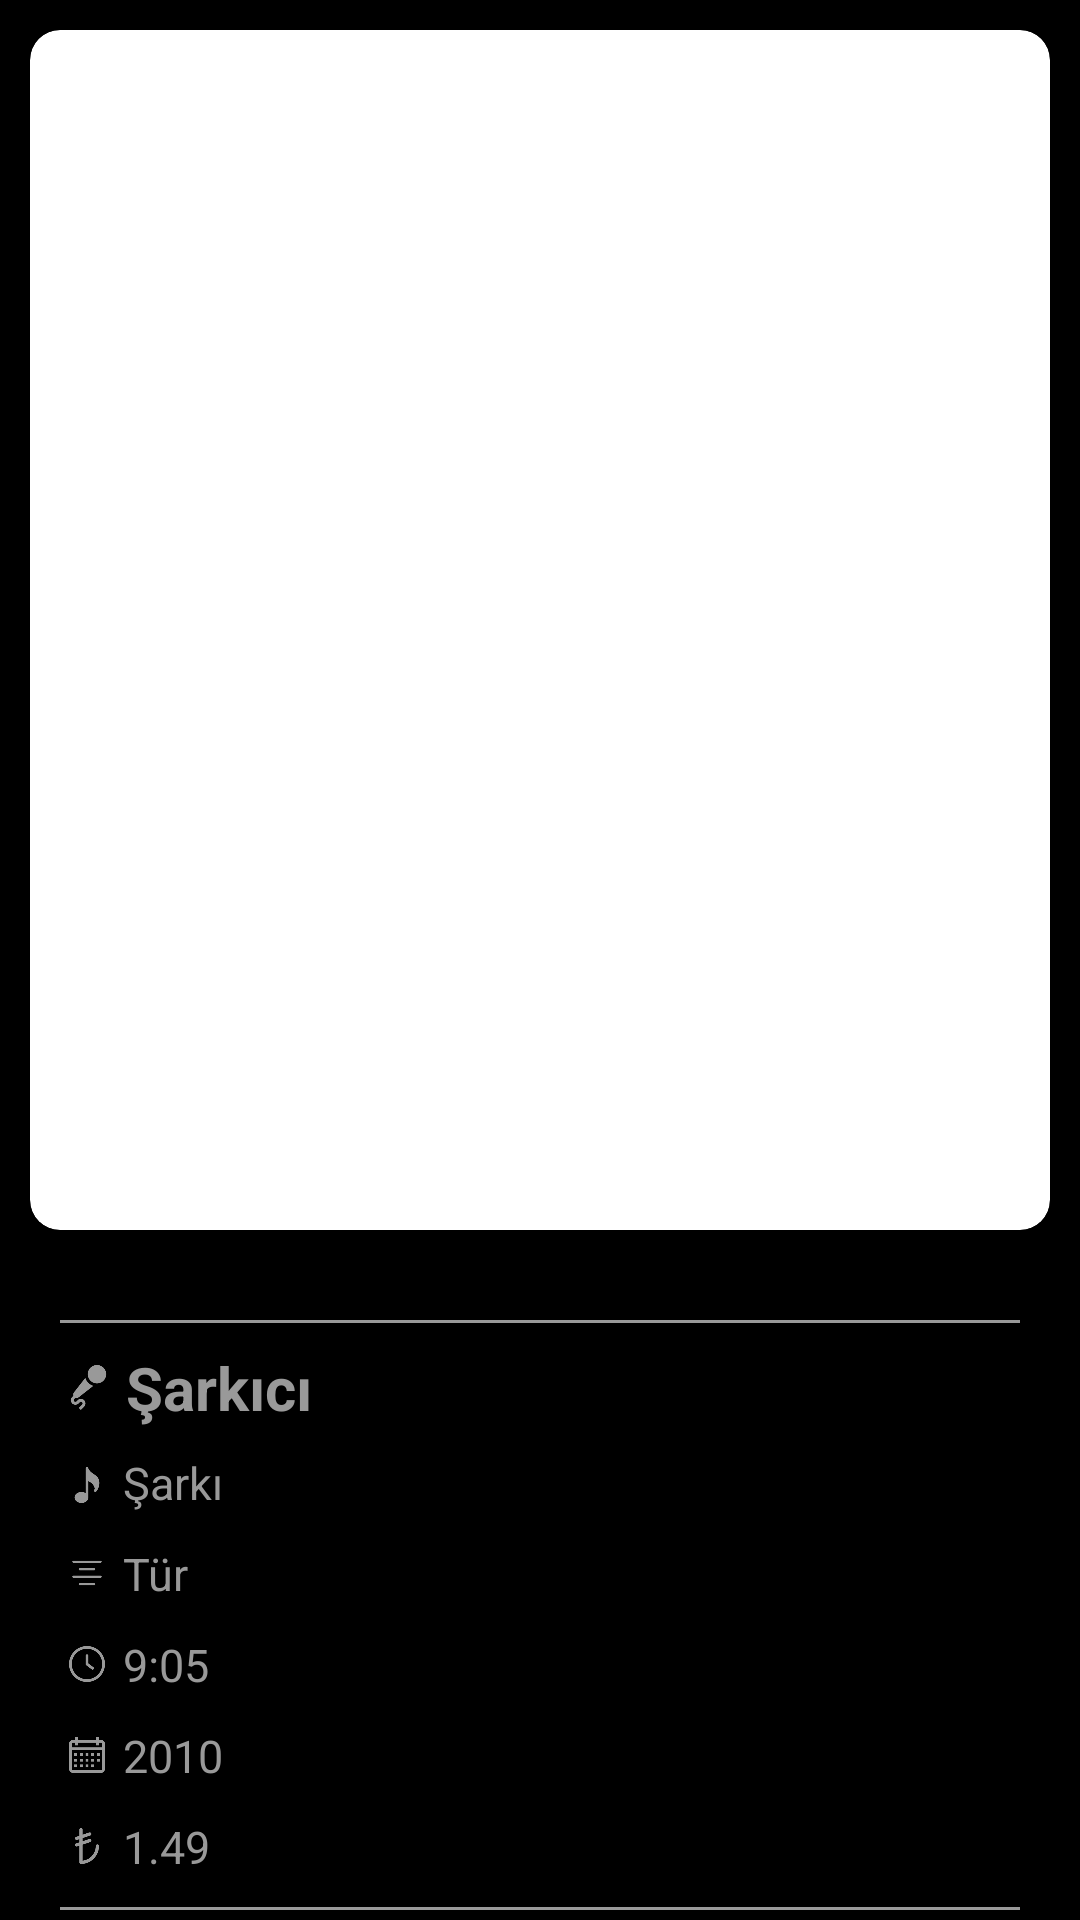

Named icons in this screenshot (1080w x 1920h) and their centers, [x,y]:
calendar: [87,1755]
clock: [87,1664]
microphone: [88,1387]
note: [87,1485]
turkish lira: [87,1846]
